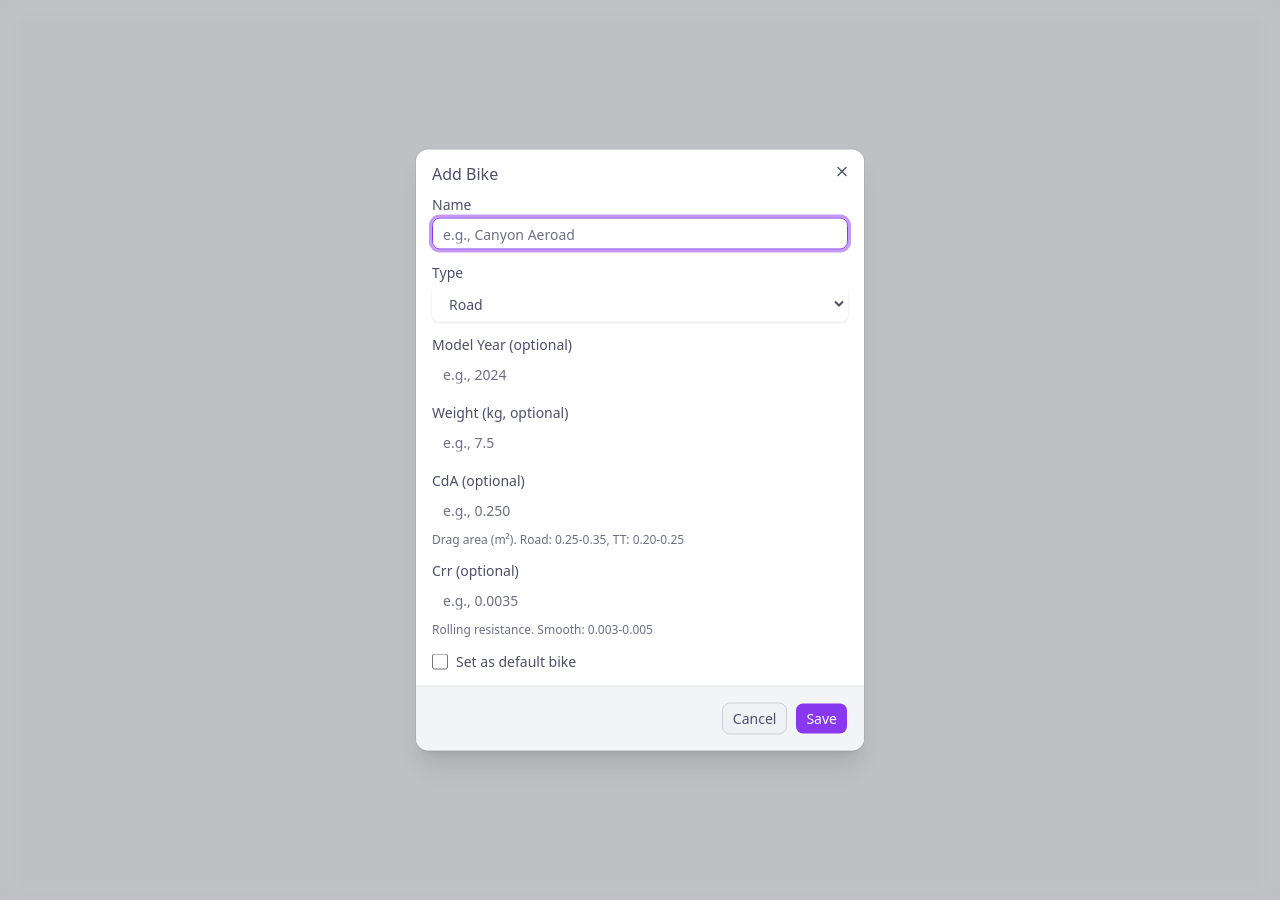
Test: BikeForm › validates weight range
Step 1. Type "Test Bike" into the field labelled "Name" → point(640, 234), box [432,218,848,250]
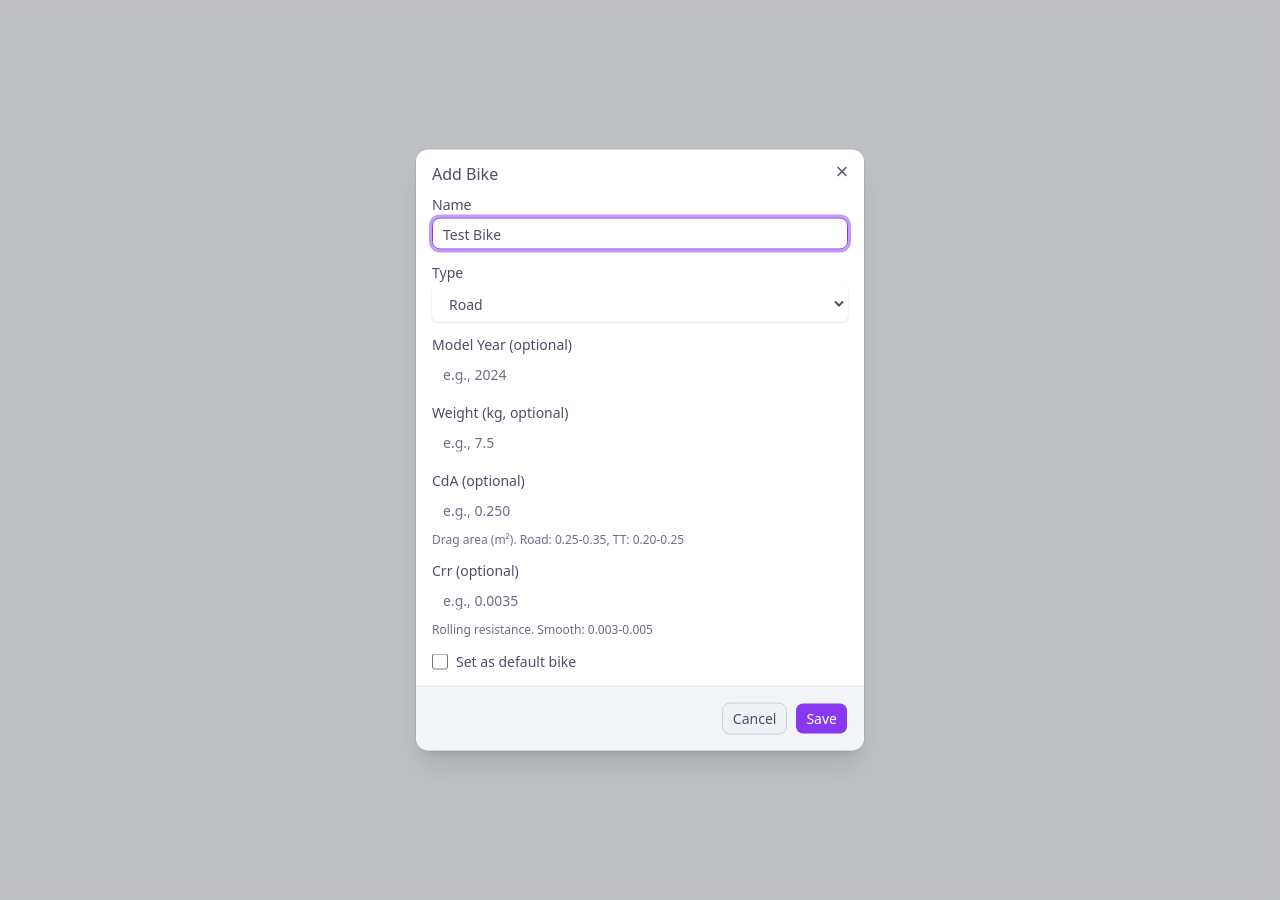
Step 2. Type "100" into the number field labelled "Weight (kg, optional)" → point(640, 442), box [432,426,848,458]
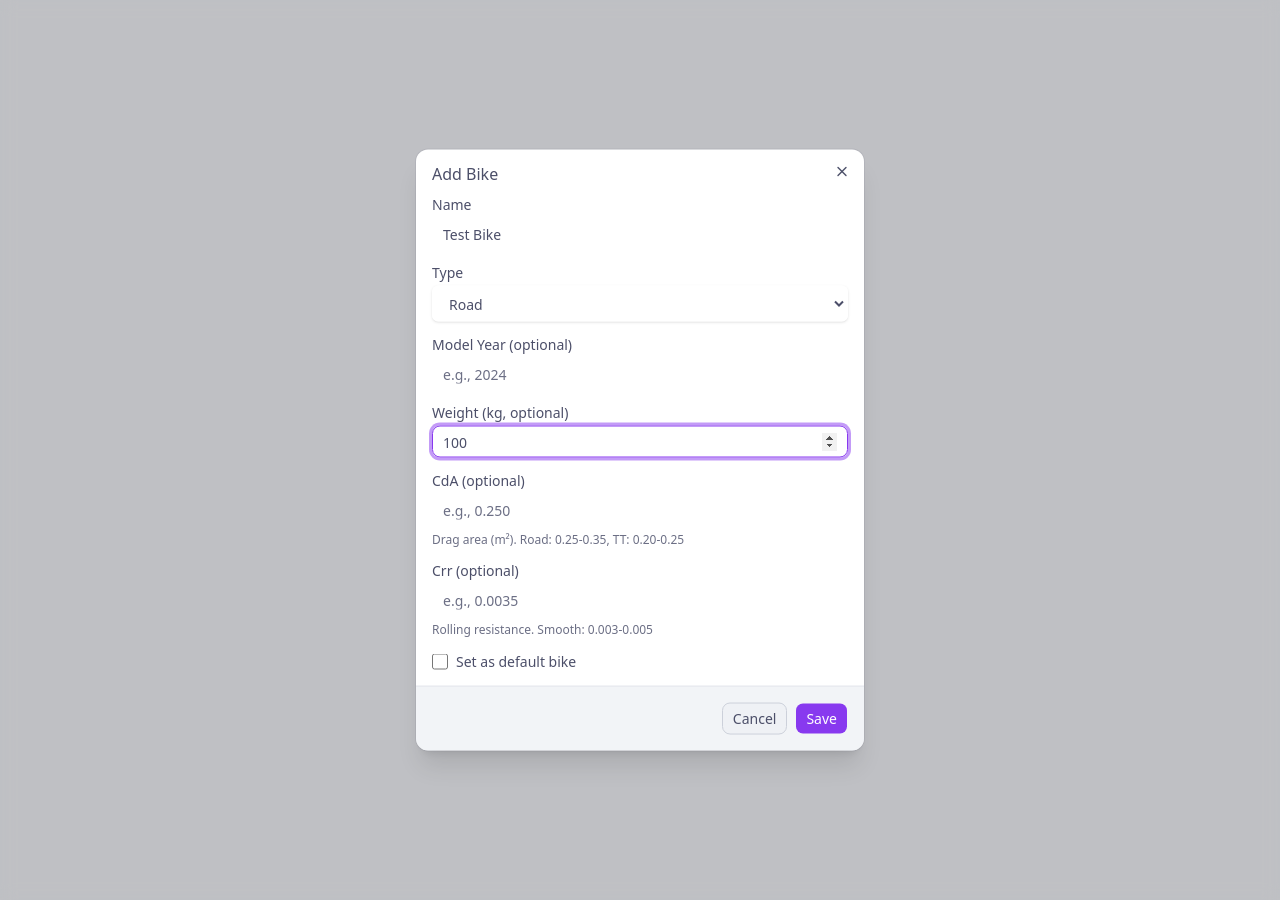
Step 3. Click the button "Save" → point(822, 718), box [795,702,848,734]
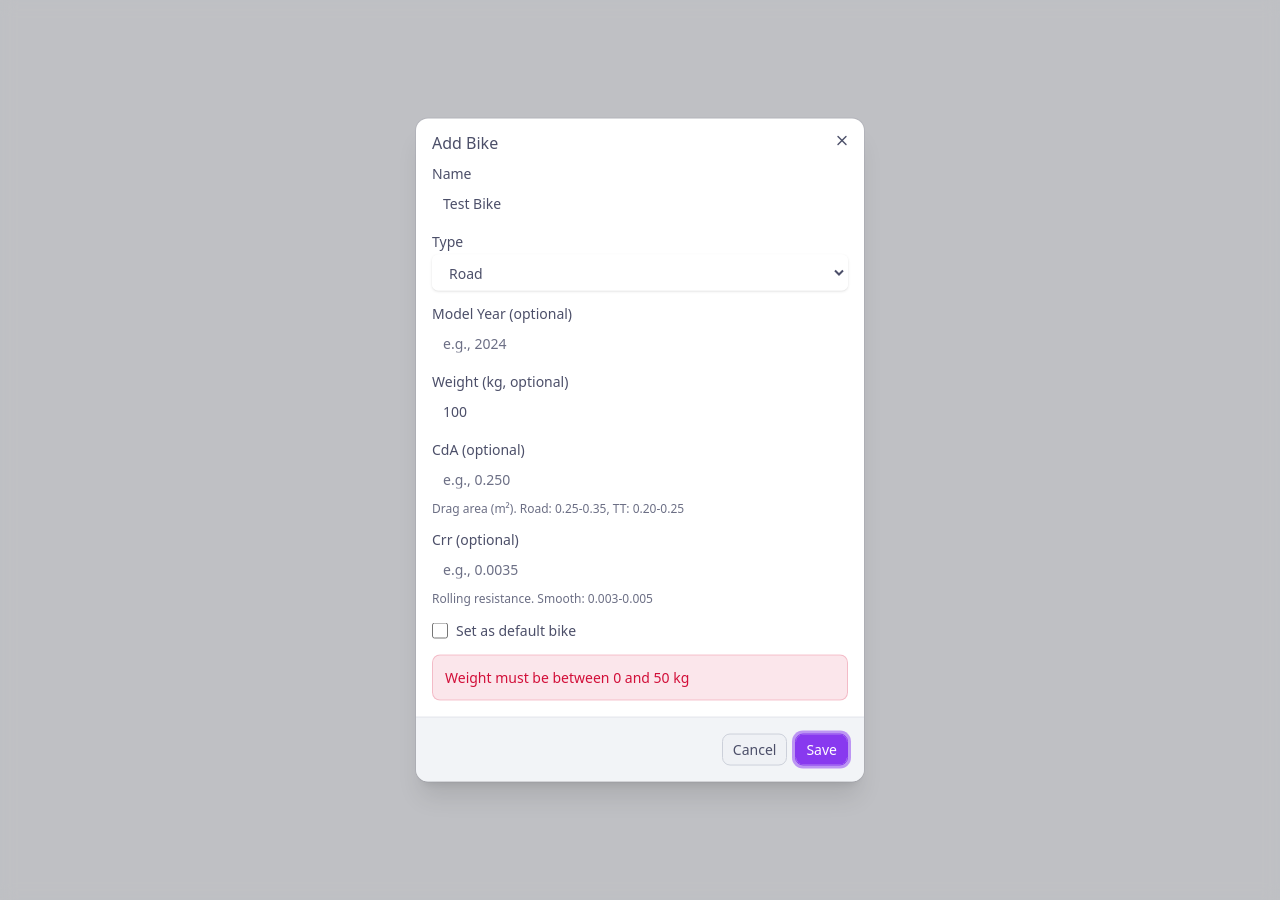
expect the text "Weight must be between 0 and 50 kg" is shown: met, box [432,654,848,700]
